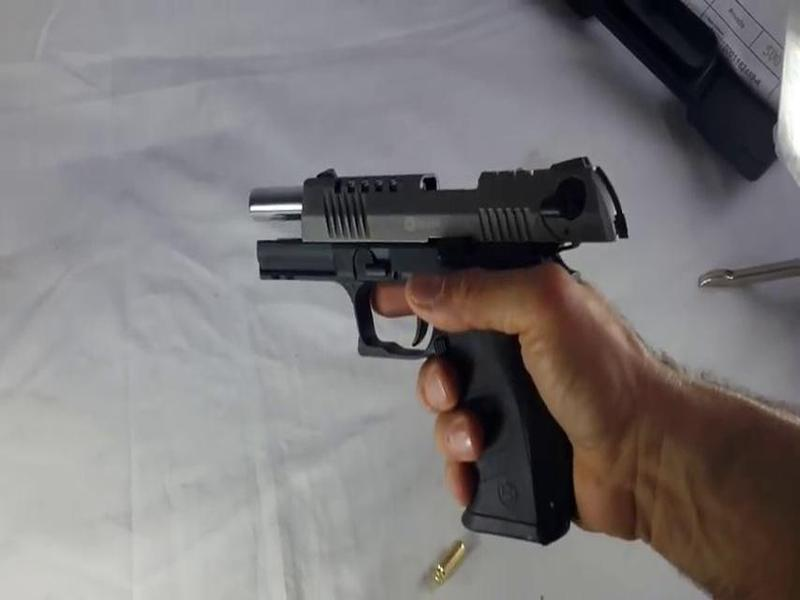Pistola: (221, 139, 630, 553)
